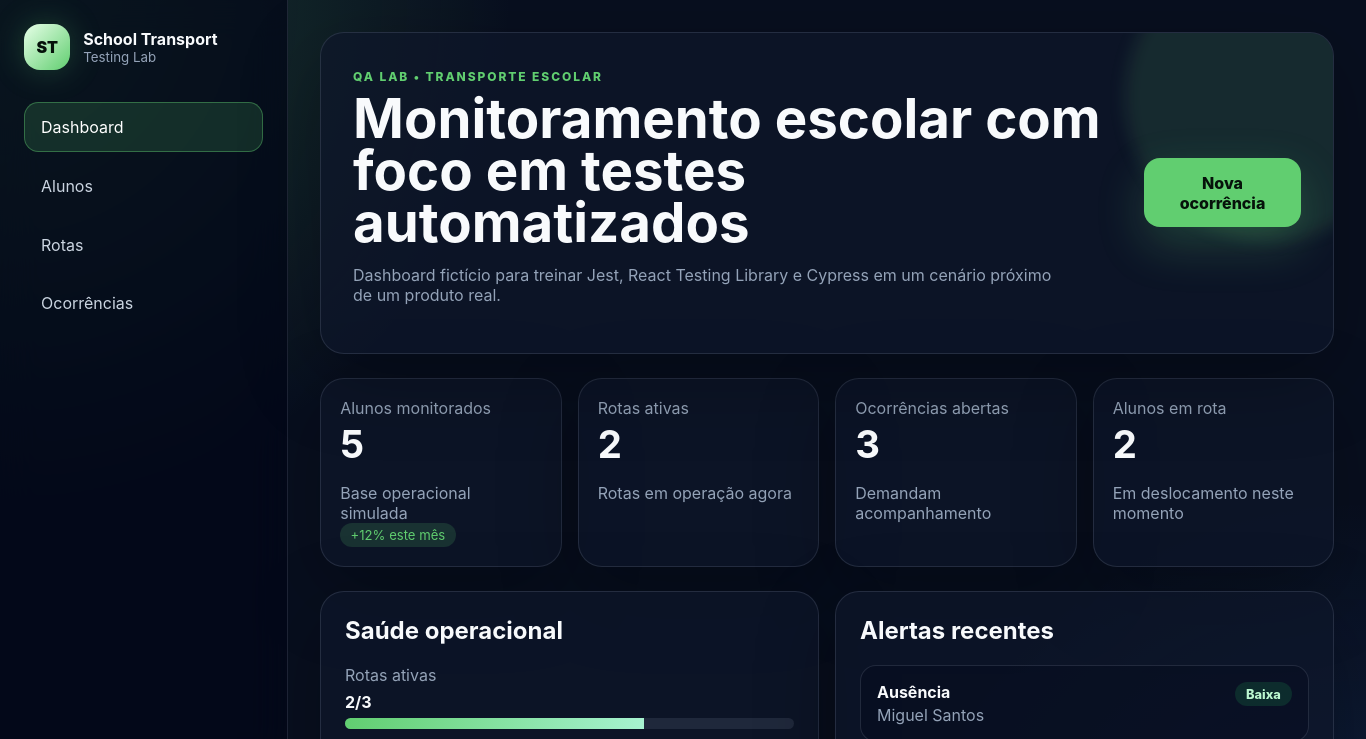
it: Occurrences › creates a new occurrence and shows it in the queue
Click the button with test id "nav-occurrences" at {"x": 144, "y": 304}, box [24,279,263,328]
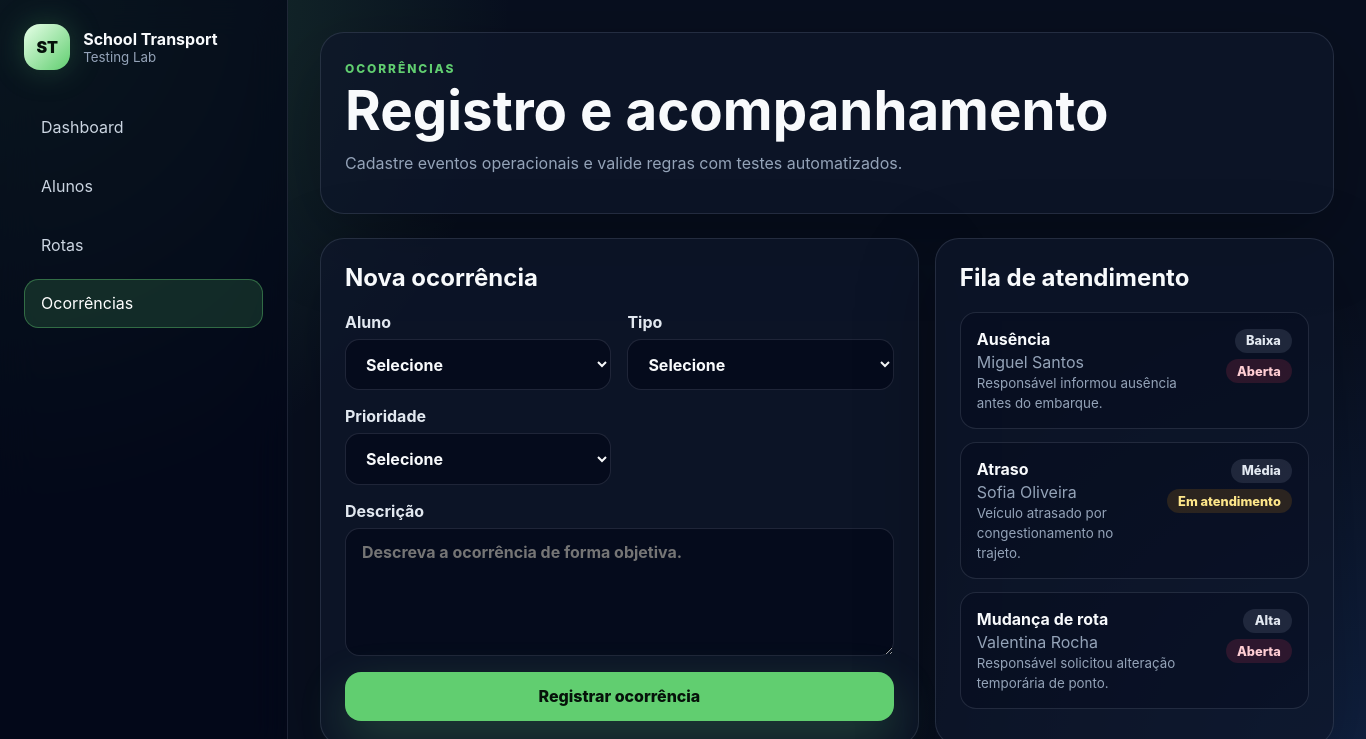
Select "Sofia Oliveira" in the dropdown with test id "occurrence-student" at {"x": 478, "y": 365}, box [345,339,611,390]
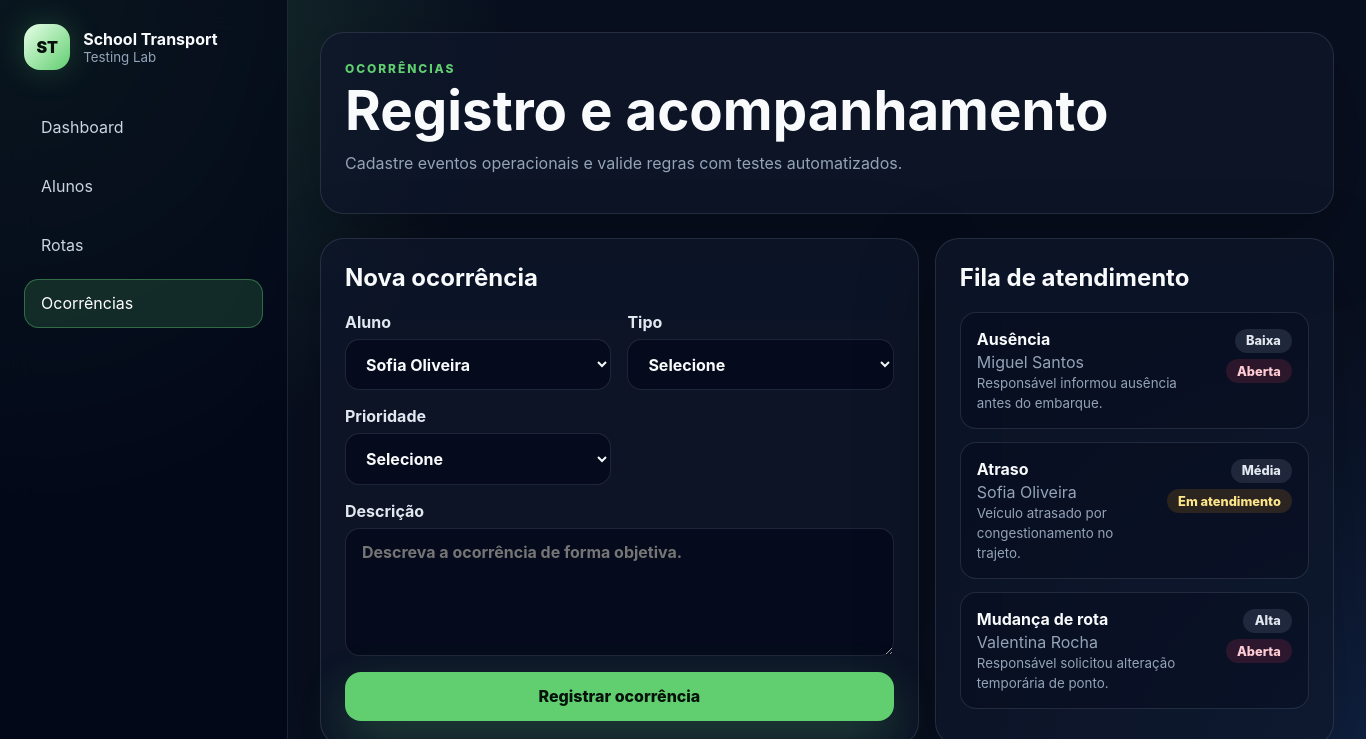
Select "Contato com responsável" in the dropdown with test id "occurrence-type" at {"x": 760, "y": 365}, box [627,339,893,390]
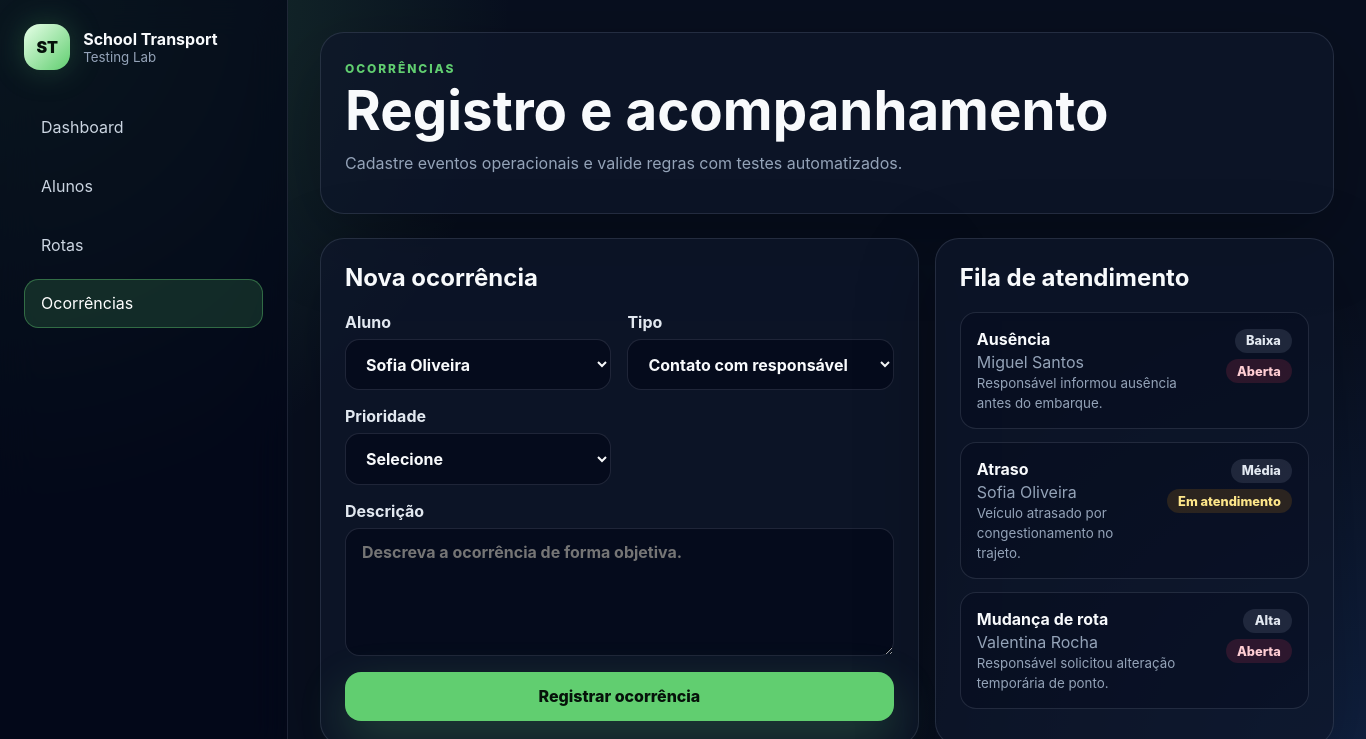
Select "Alta" in the dropdown with test id "occurrence-priority" at {"x": 478, "y": 459}, box [345,433,611,484]
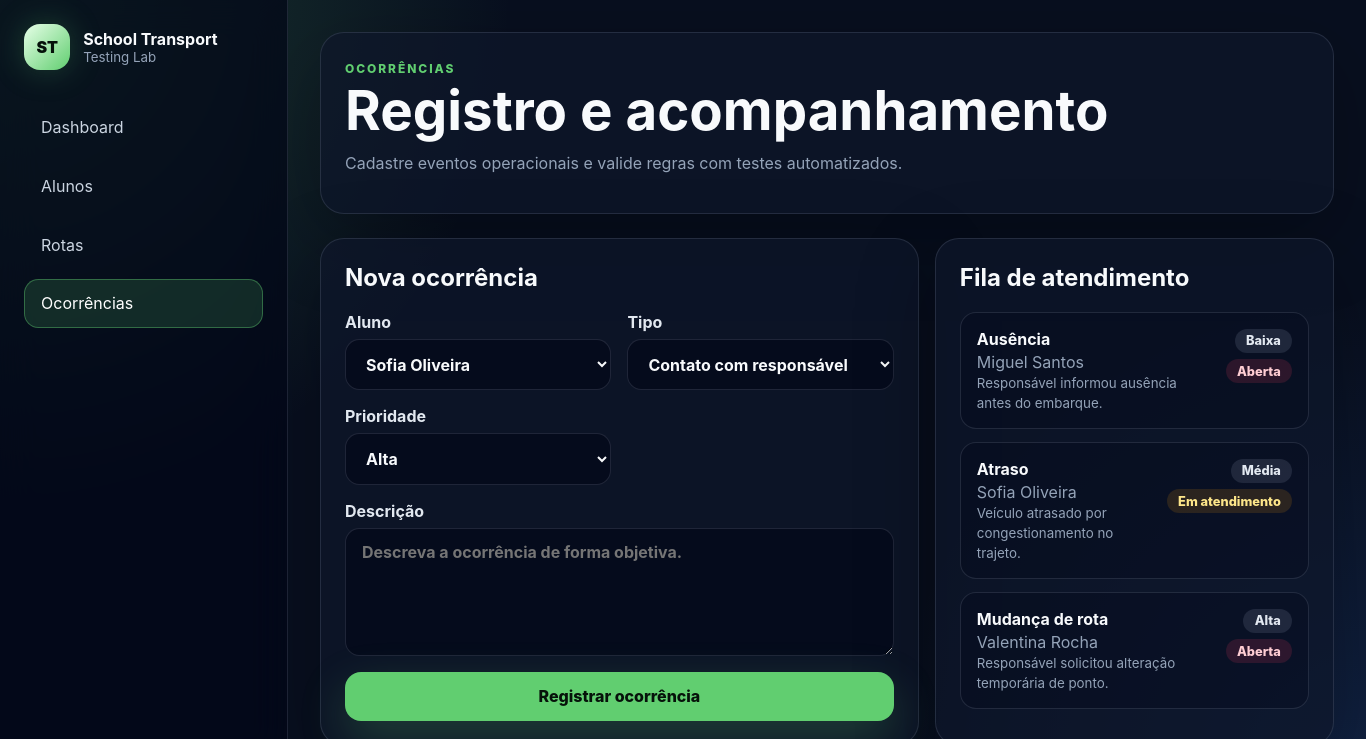
Type "Responsável pediu confirmação do horário de chegada." into the text box with test id "occurrence-description" at {"x": 620, "y": 592}, box [345,528,894,656]
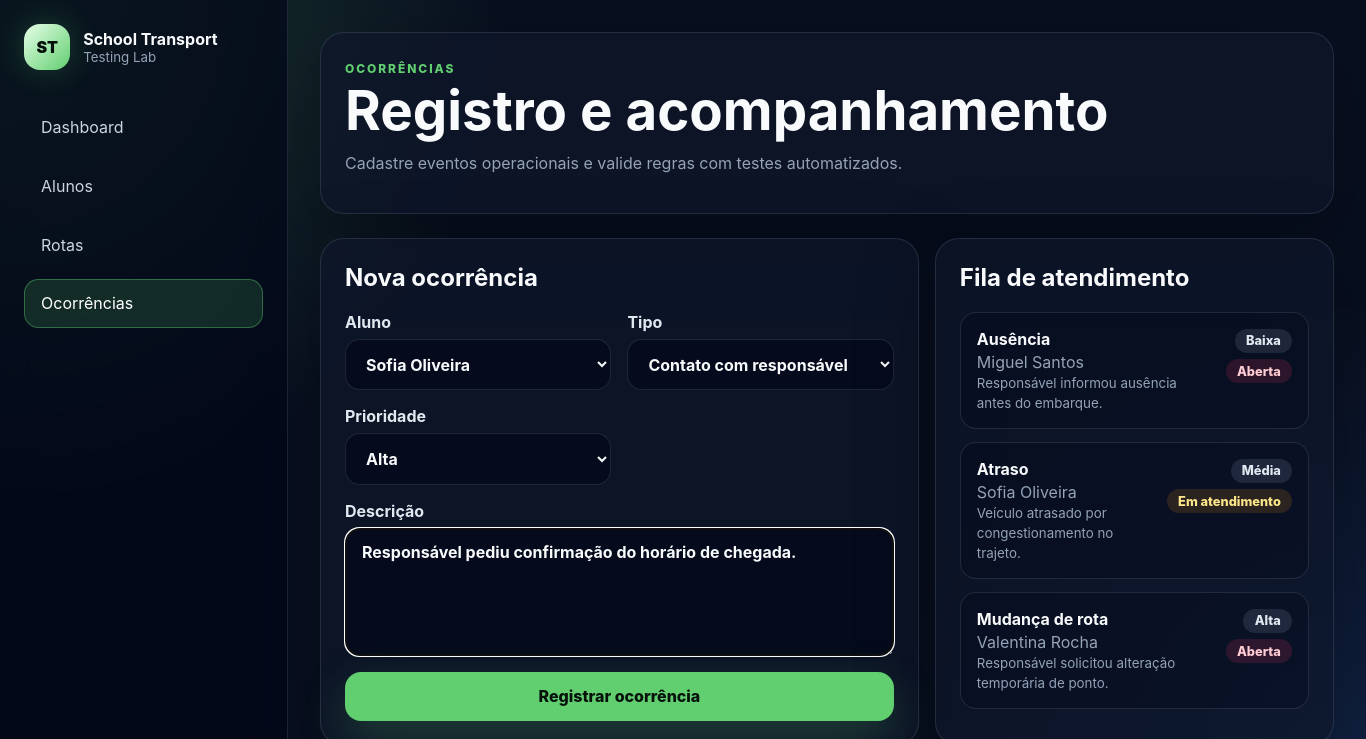
Click the button with test id "save-occurrence" at {"x": 620, "y": 697}, box [345,672,894,721]
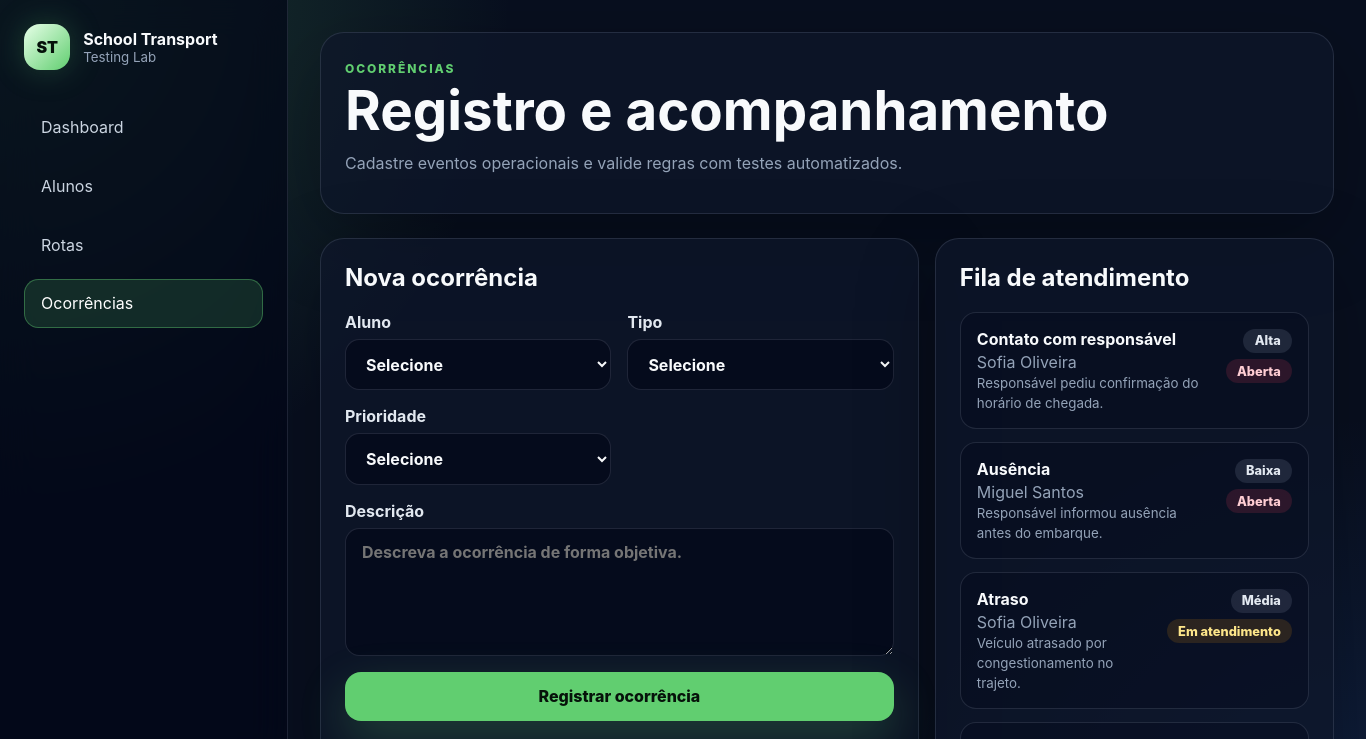
Expected: the text "Contato com responsável" is shown, [977,329,1176,349]
Expected: the text "Sofia Oliveira" below "Contato com responsável" is shown, [977,352,1077,372]
